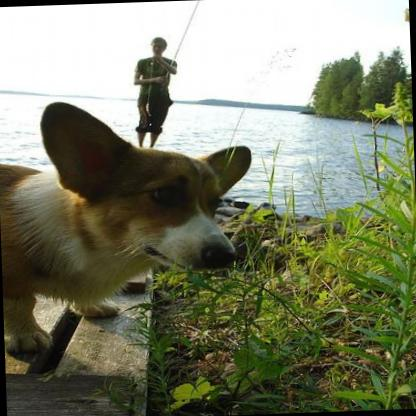Pembroke: (0, 94, 255, 365)
